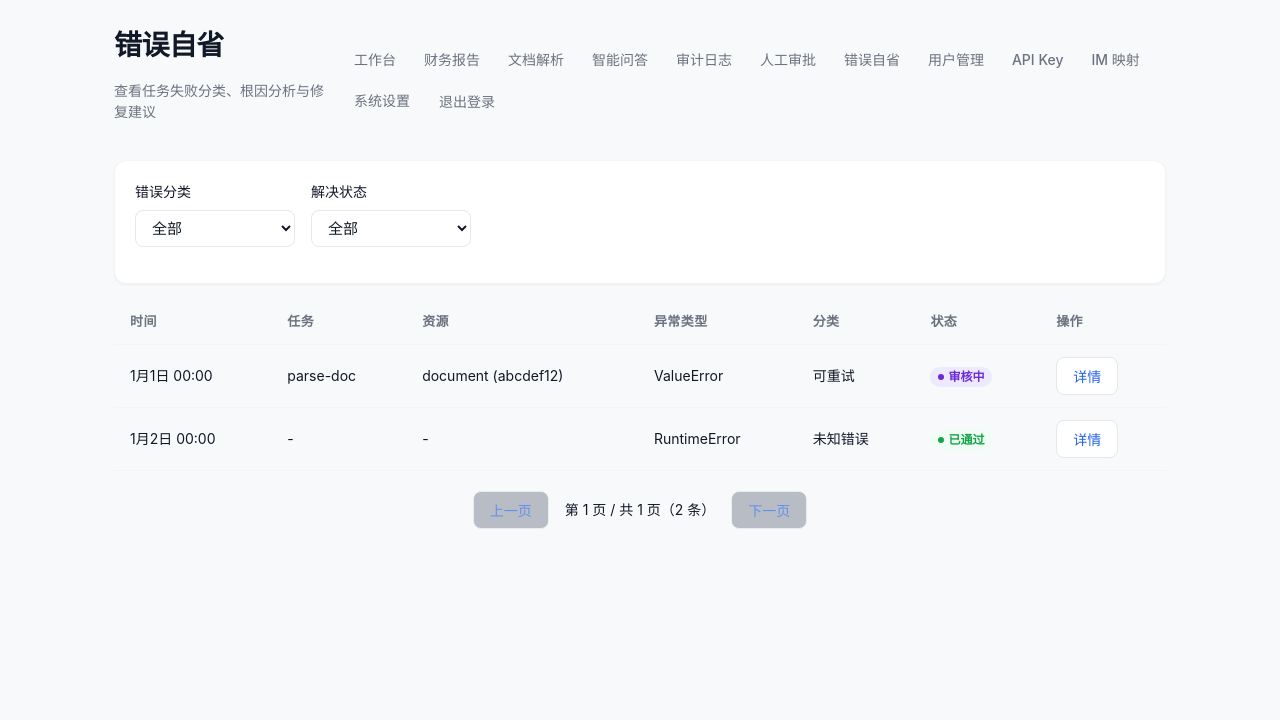
ReflectionsPage › 已解决记录的详情展示已记录方案
Click the button "详情" in the row of "1月2日 00:00".
click(1087, 438)  # box [1056,420,1118,458]
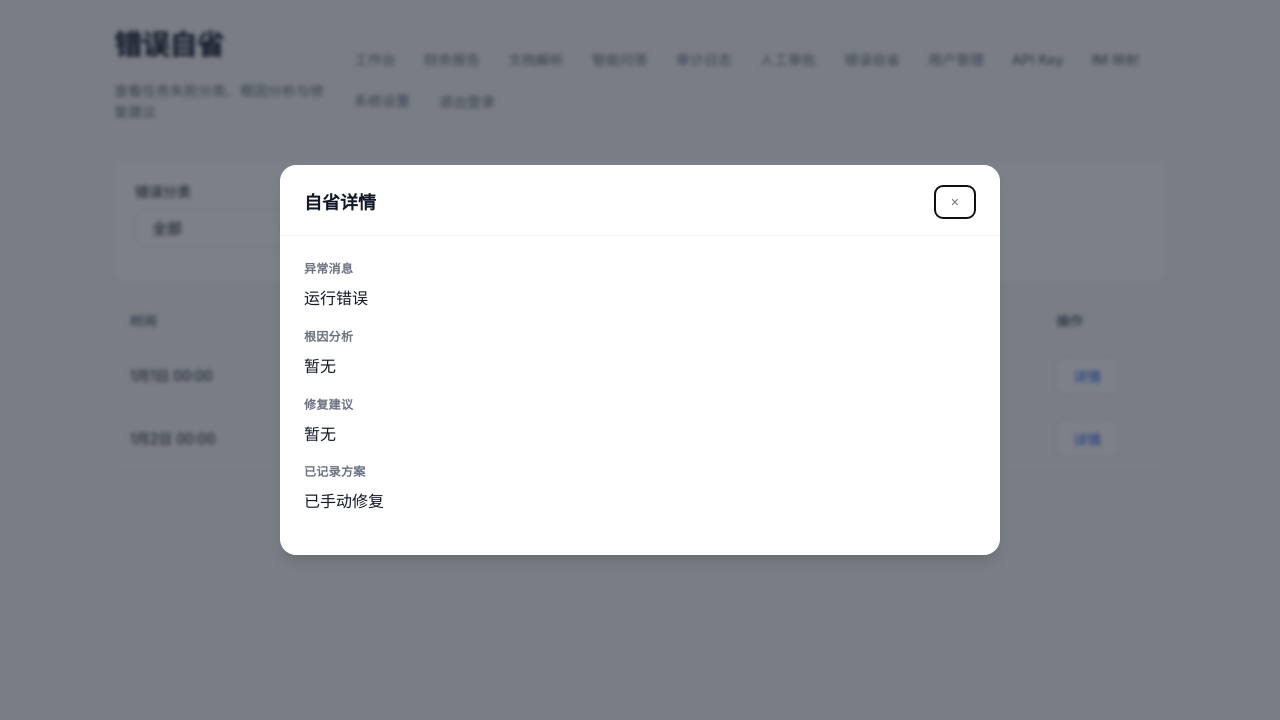
Check: the text "已手动修复" is shown, box [304,491,384,511]
